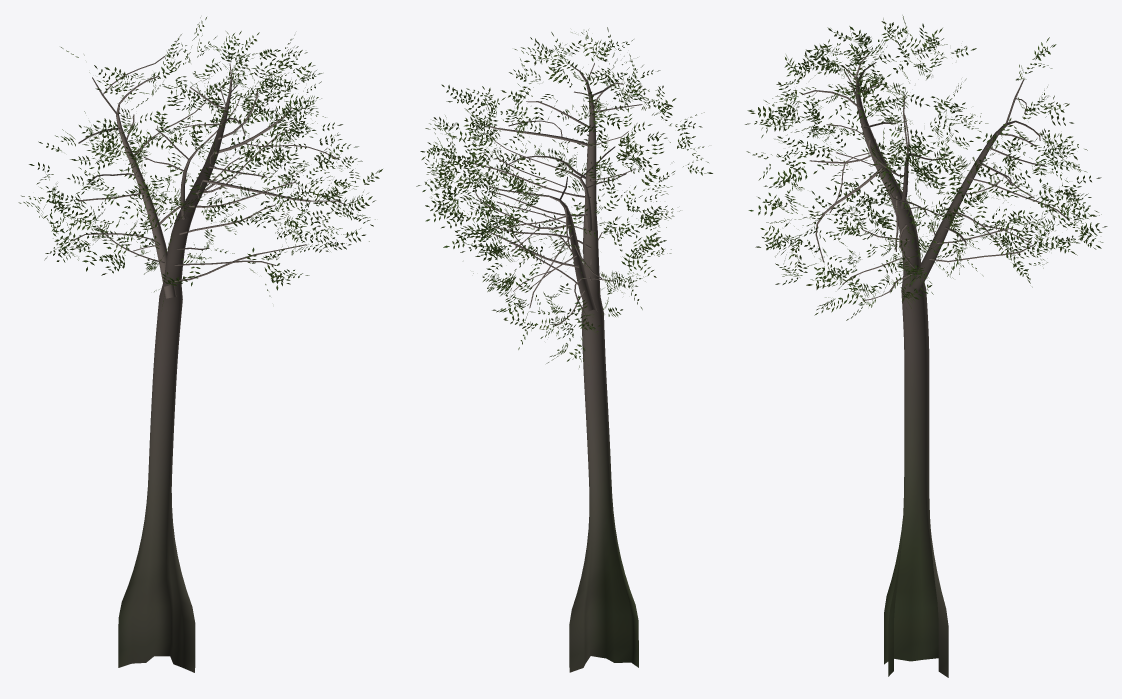
The model's file is SM_Tree_rowan_0.glb.
3 renders of one model, left to right at view 1: azimuth 30°, elevation 25°; view 2: azimuth 150°, elevation 25°; view 3: azimuth 270°, elevation 25°, orthographic. The views are drawn at different scales.
Visible parts, largest first — view 1: SM_Tree_rowan_0; view 2: SM_Tree_rowan_0; view 3: SM_Tree_rowan_0.
Boxes of the visible parts, x1,y1,x2,y2 form: SM_Tree_rowan_0: [18, 17, 382, 672]; SM_Tree_rowan_0: [416, 27, 712, 672]; SM_Tree_rowan_0: [745, 15, 1107, 677].
Size of the model in its own units: 3.68 by 8.56 by 4.21.
